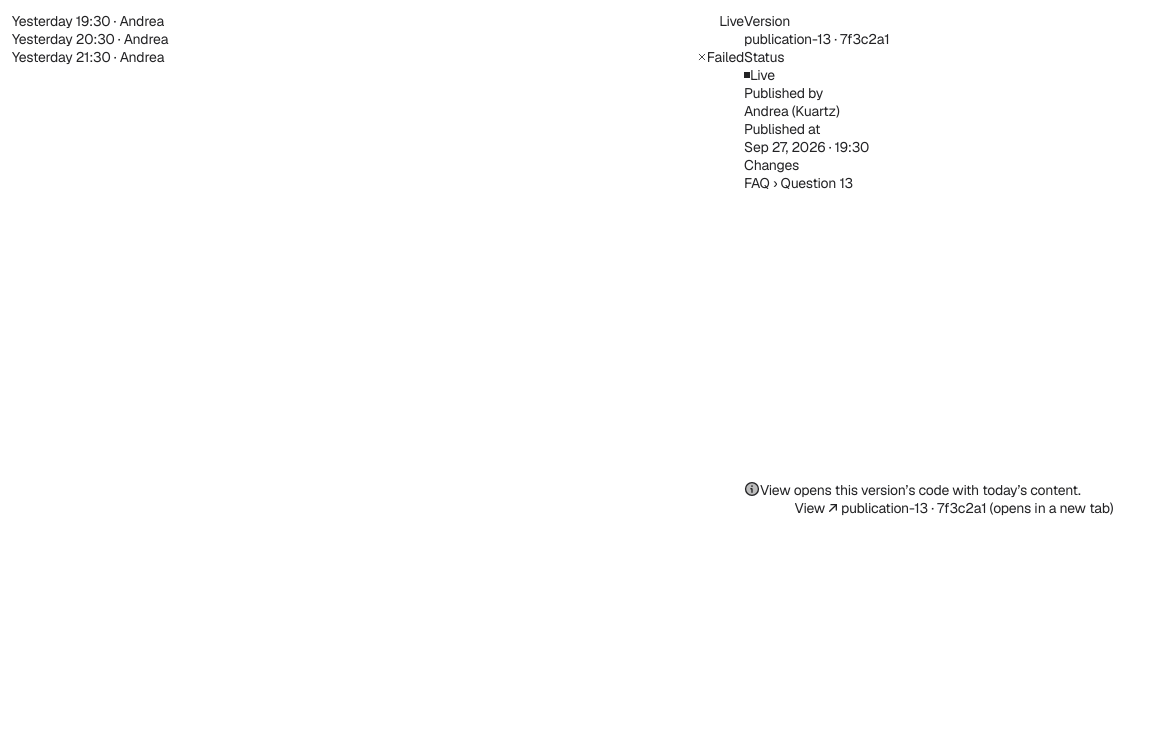
Test: E2 · Versions › liste (Live, Failed), fiche de la version choisie, flèches ↑ ↓
This screenshot has width=1176, height=732.
Expected: the 1st text "Live" is shown, top-left (719, 12), bottom-right (744, 30)
Expected: the text "Failed" is shown, top-left (707, 48), bottom-right (744, 66)
Click the button "Yesterday 20:30 · Andrea".
click(90, 39)  # box top-left (12, 30), bottom-right (744, 48)
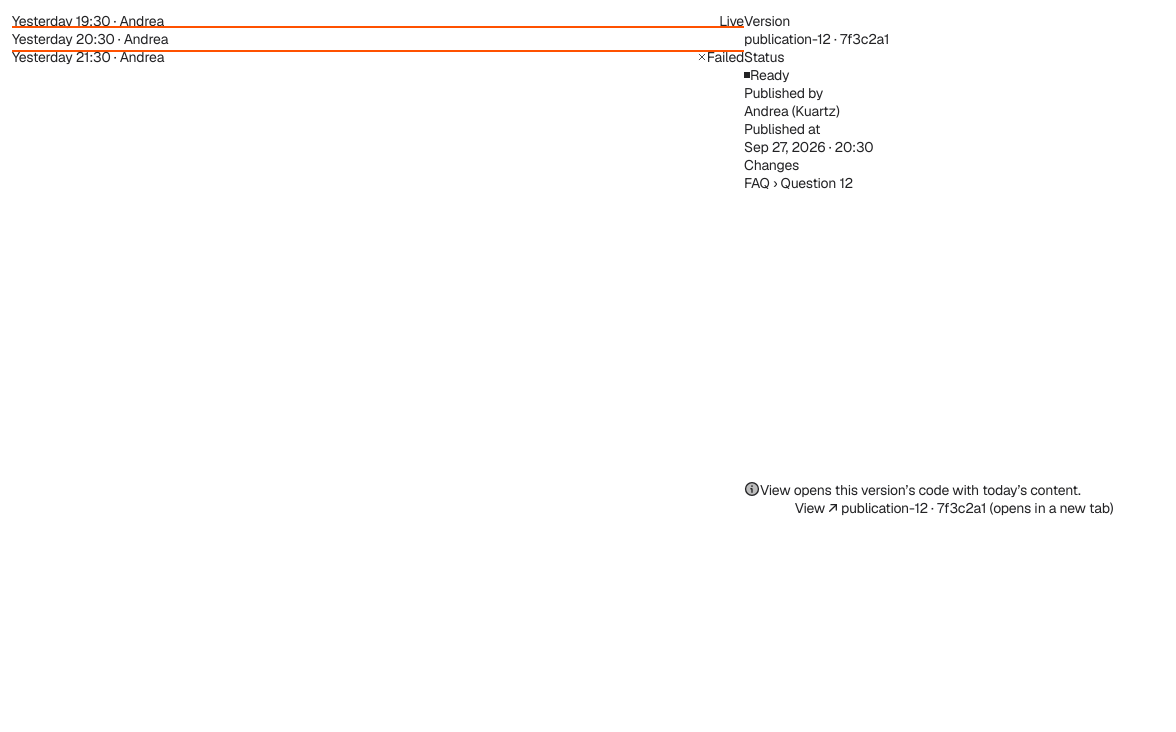
Now the text "publication-12 · 7f3c2a1" is shown, box top-left (744, 30), bottom-right (889, 48)
Now the text "Ready" is shown, box top-left (750, 66), bottom-right (789, 84)
Press Arrowdown
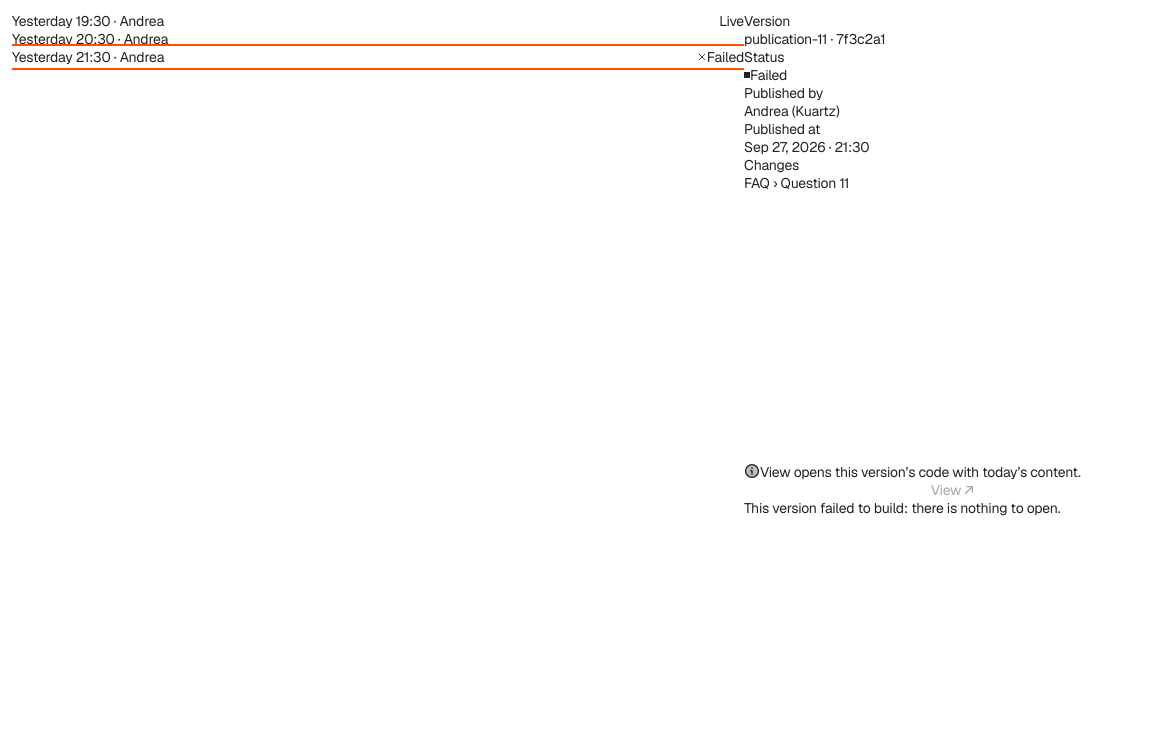
Expected: the button "View" is disabled, top-left (744, 481), bottom-right (1164, 499)
Now the text "Failed" below "Status" is shown, box top-left (750, 66), bottom-right (787, 84)
